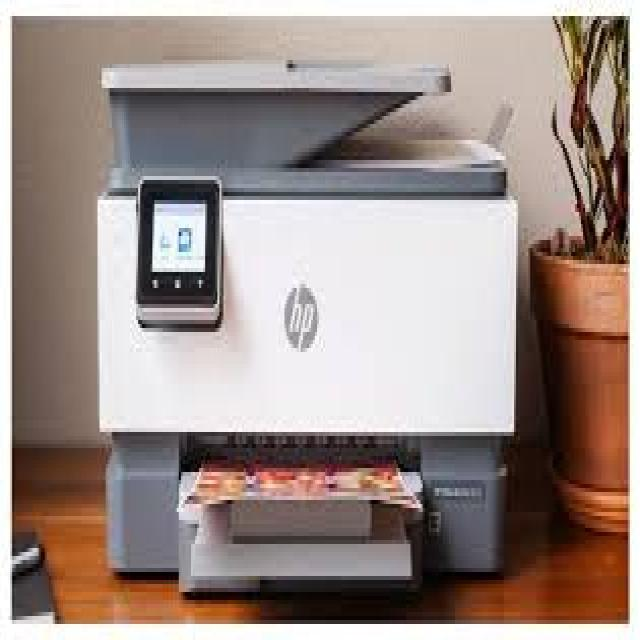printer: (96, 56, 518, 596)
